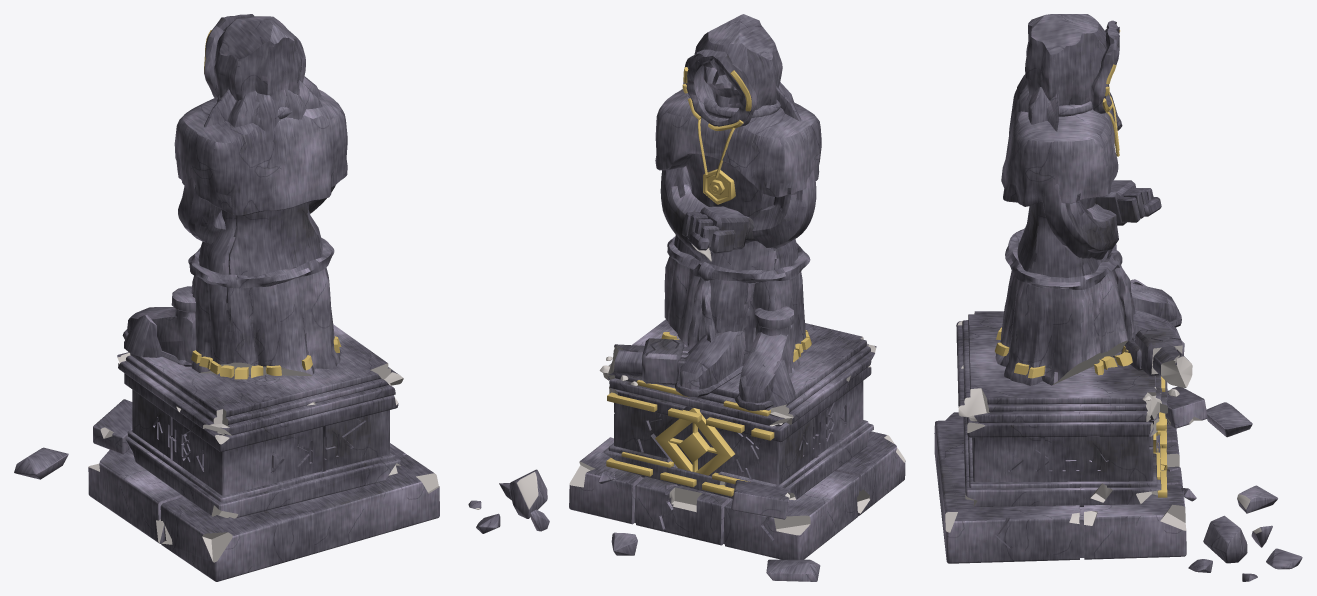
The model's file is SM_Cripta_Estatua.glb.
The picture shows the model from 3 angles, left to right: view 1: azimuth 30°, elevation 25°; view 2: azimuth 150°, elevation 25°; view 3: azimuth 270°, elevation 25°; orthographic projection. The views are drawn at different scales.
Parts seen in each view (by area): view 1: SM_Cripta_Estatua; view 2: SM_Cripta_Estatua; view 3: SM_Cripta_Estatua.
Boxes of the visible parts, x1=… form: SM_Cripta_Estatua: x1=14, y1=14, x2=439, y2=581; SM_Cripta_Estatua: x1=468, y1=14, x2=905, y2=581; SM_Cripta_Estatua: x1=934, y1=14, x2=1302, y2=581.
Size of the model in its own units: 2.38 by 3.22 by 2.16.
Materials: 3 (1 with a texture image).
